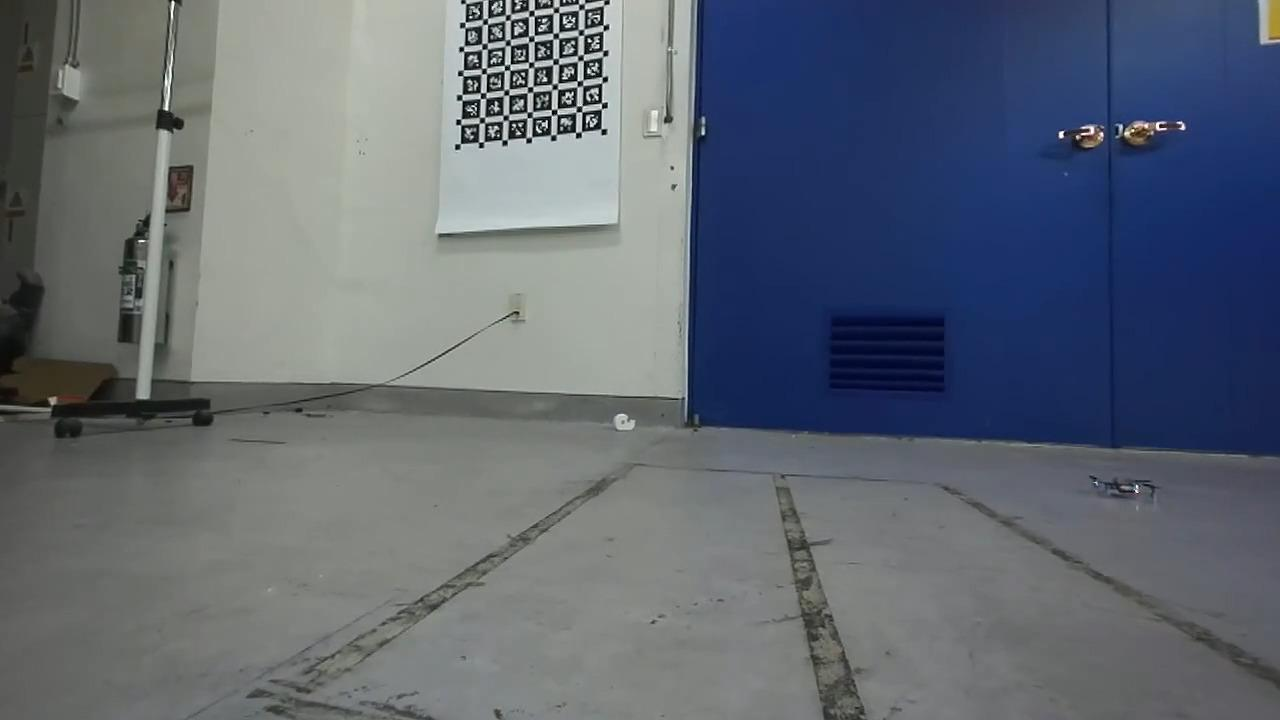crazyflie: (1089, 468, 1162, 503)
